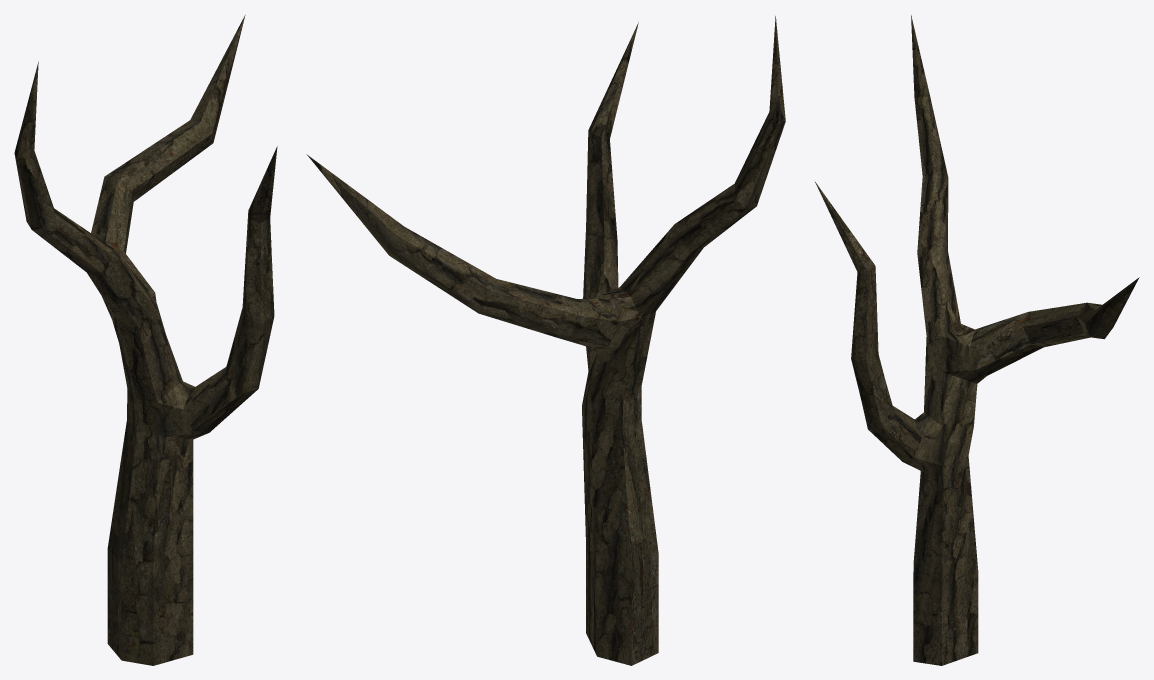
The model's file is Tree.Transition.Top.fbx.
The picture shows the model from 3 angles, left to right: view 1: azimuth 30°, elevation 25°; view 2: azimuth 150°, elevation 25°; view 3: azimuth 270°, elevation 25°; orthographic projection. The views are drawn at different scales.
Parts seen in each view (by area): view 1: Tree_Transition.001; view 2: Tree_Transition.001; view 3: Tree_Transition.001.
Part boxes in pixels (x1,y1,x2,y2): Tree_Transition.001: [14, 15, 277, 665]; Tree_Transition.001: [306, 16, 785, 665]; Tree_Transition.001: [815, 15, 1139, 665].
Bounding box in the file's own units: 458 × 800 × 407.
